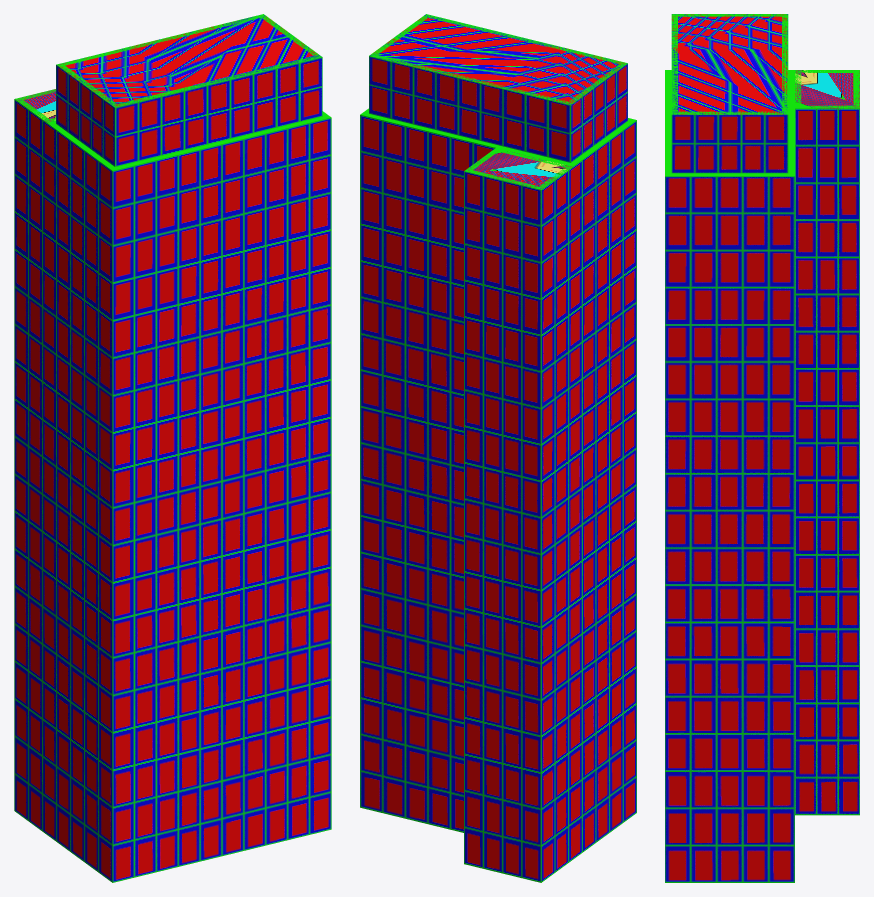
Rendered from BuildingD.fbx.
3 renders of one model, left to right at view 1: azimuth 30°, elevation 25°; view 2: azimuth 150°, elevation 25°; view 3: azimuth 270°, elevation 25°, orthographic. The views are drawn at different scales.
Parts seen in each view (by area): view 1: Building_D, Building_D_ColiderMesh; view 2: Building_D, Building_D_ColiderMesh; view 3: Building_D, Building_D_ColiderMesh.
Boxes of the visible parts, box(x1,y1,x2,y2) form: Building_D: box(14, 14, 331, 882); Building_D_ColiderMesh: box(17, 14, 321, 122); Building_D: box(360, 14, 636, 882); Building_D_ColiderMesh: box(370, 14, 626, 189); Building_D: box(665, 14, 859, 882); Building_D_ColiderMesh: box(671, 14, 859, 114).
Bounding box in the file's own units: 38.6 × 30 × 130.
Materials: 1 (1 with a texture image).
